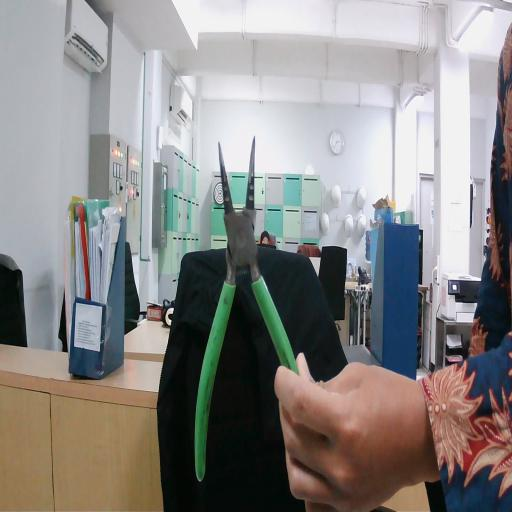tang_scun_hidrolik: (192, 134, 320, 496)
